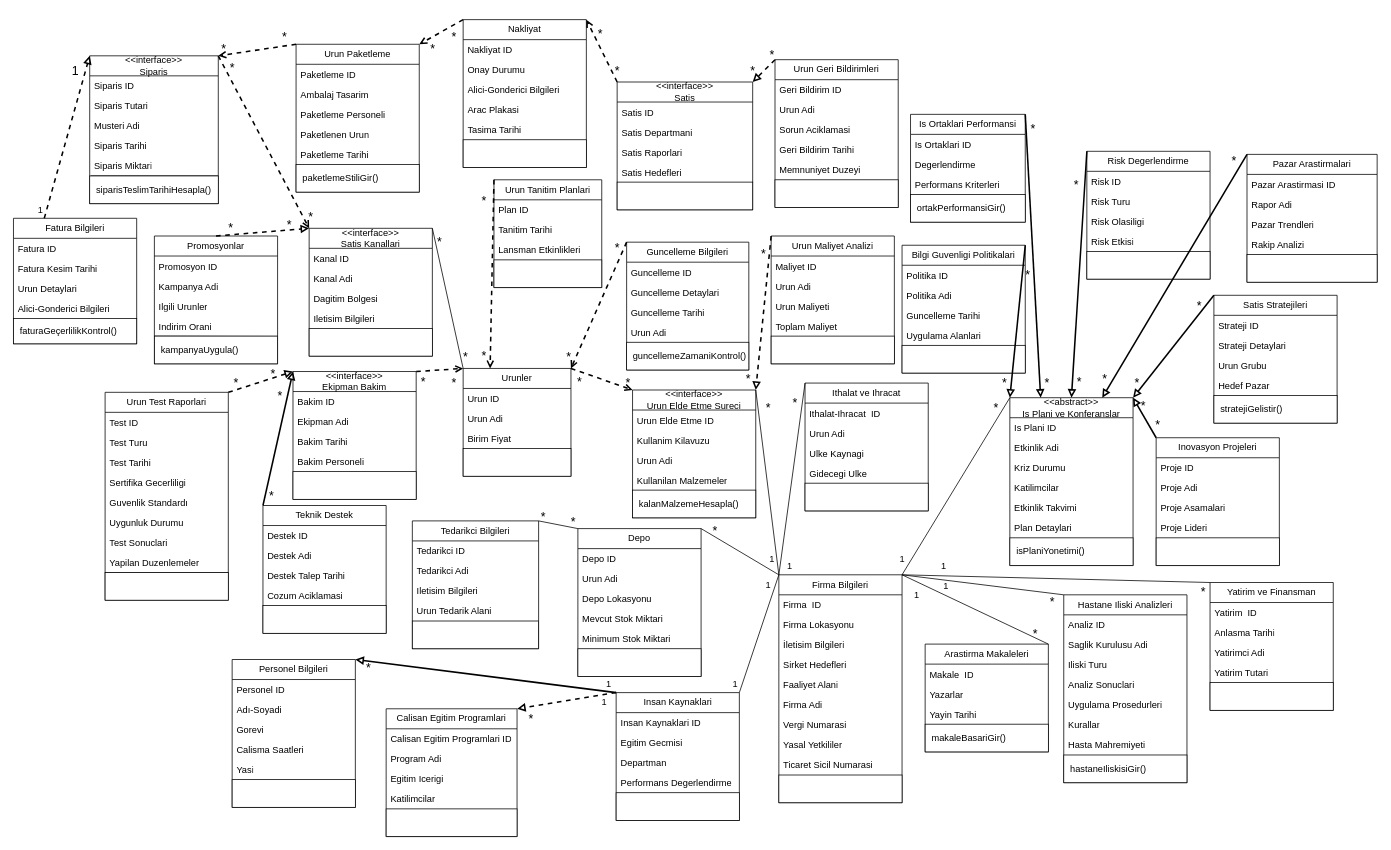
Image size: 1391x850. Some labels were removed from this diagram. Here are the shapes that lost their labels. From the top down, the centre of each, then its label:
[524,153]: nakliyatBasariGir()
[684,195]: satisHedefGerceklesmeOrani()
[836,193]: geriBildirimOlumluOran()
[547,273]: tanitimPlaniGir()
[1148,265]: riskDuzeyiGir()
[1311,268]: ortalamaPazarFiyatHesapla()
[370,342]: kanalDagilimHesapla()
[832,349]: urunMaliyetHesapla()
[963,359]: guvenlikPolitikasiGir()
[516,462]: urunKaliteGir()
[354,485]: bakimZamaniKontrol()
[866,496]: ticaretDengesiHesapla()
[1217,551]: inovasyonGir()
[166,586]: testSonucuGir()
[324,619]: teknikDestekDegerlendir()
[475,634]: tedarikciPerformansGir()
[639,662]: stokDurumAnalizEt()
[1271,696]: yatirimGetiriHesapla()
[293,793]: calismaSaatiHesapla()
[677,806]: calisanPerformansGir()
[840,788]: firmaIlerlemeHesapla()
[451,822]: egitimTamamlayanKontrol()
